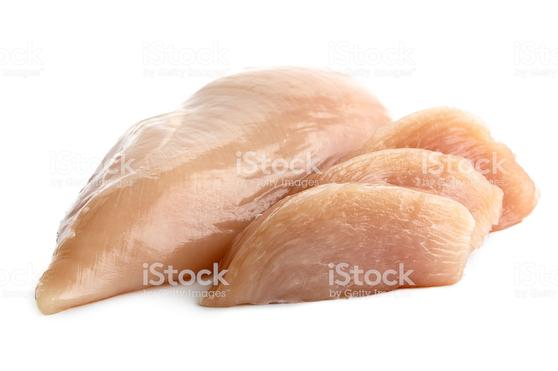chicken_fillet: (44, 61, 393, 302), (218, 175, 474, 315)
